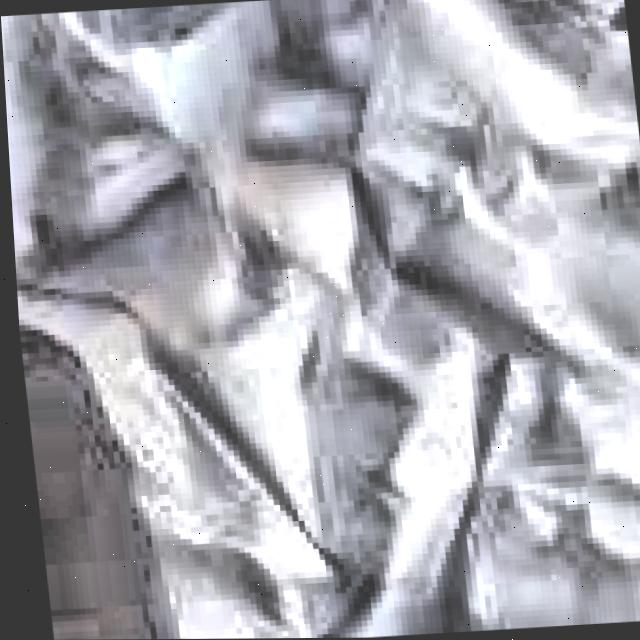paper: (1, 0, 640, 639)
